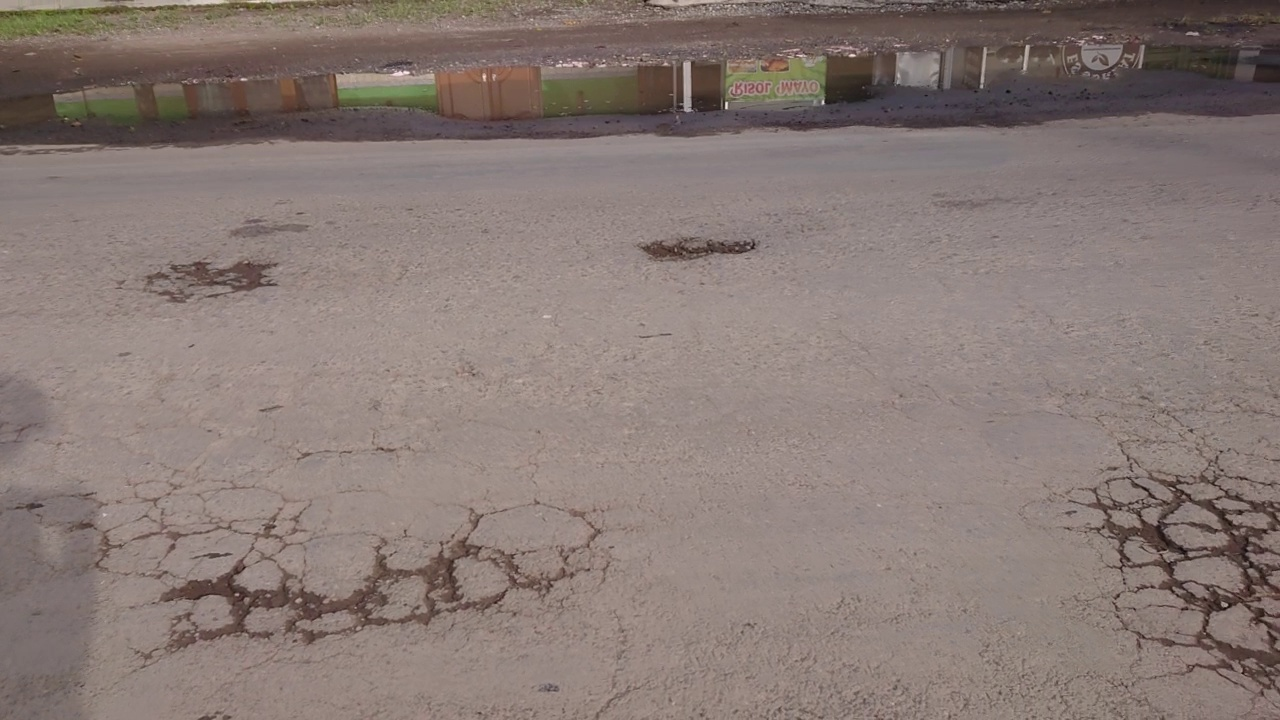Retak: (136, 517, 622, 629), (1072, 467, 1280, 707), (634, 235, 761, 269), (169, 256, 267, 295)
